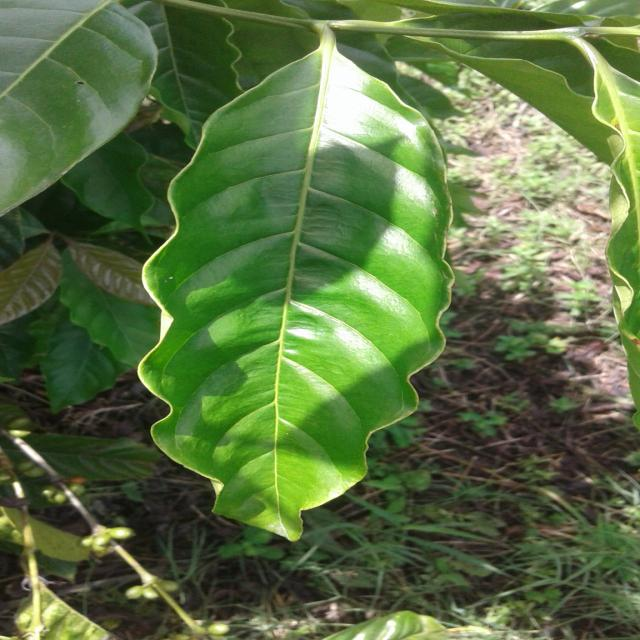Sanas: (134, 25, 453, 545)
